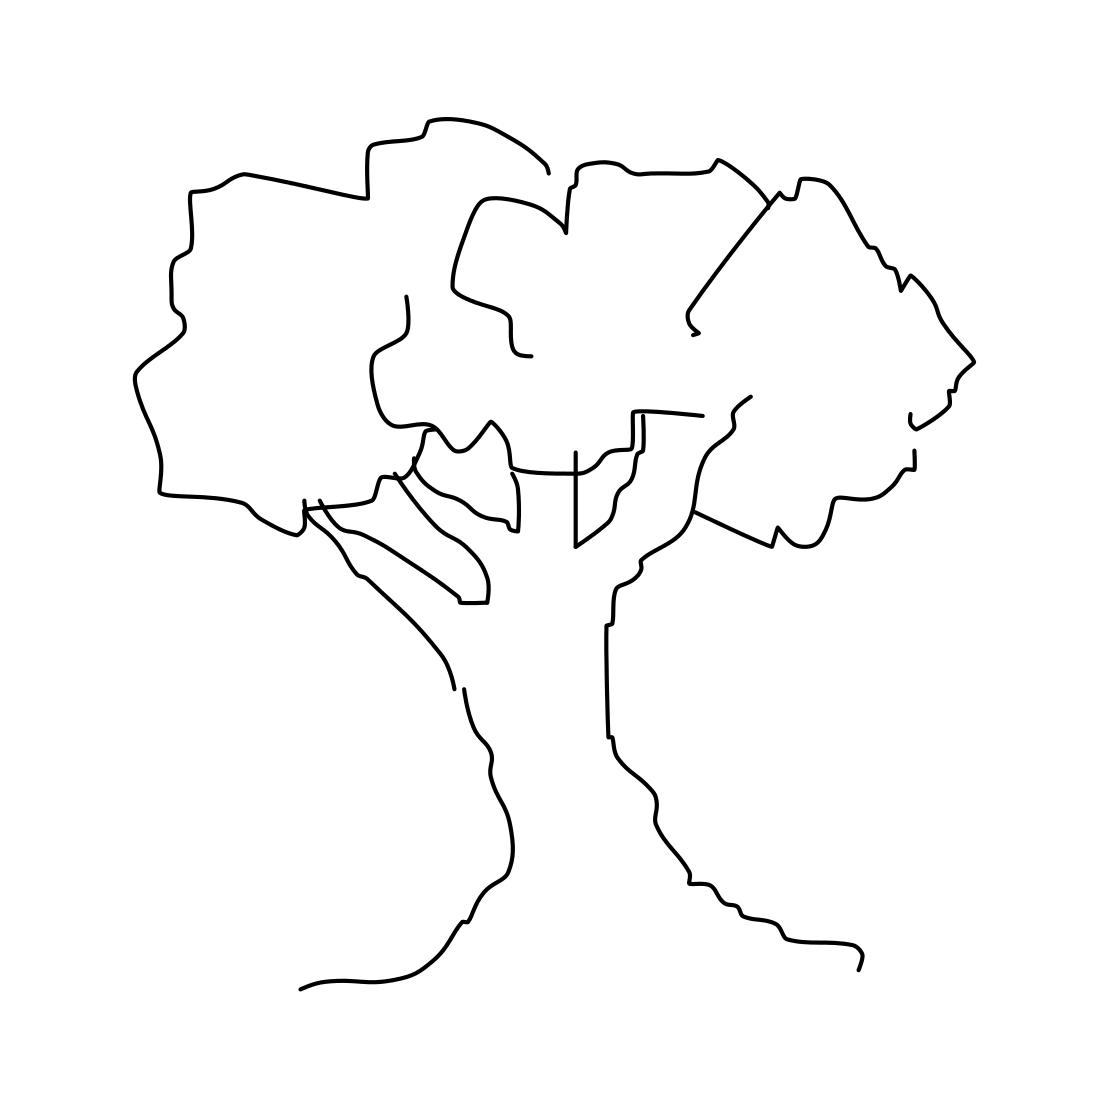Tree: (103, 80, 1017, 1013)
